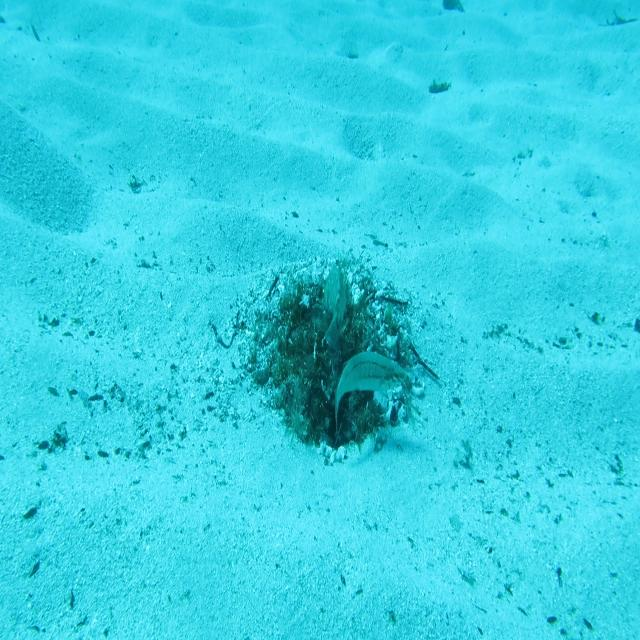NIP_CORE: (314, 260, 352, 352)
core_nest: (306, 296, 354, 354)
female: (332, 349, 410, 441)
nest: (226, 250, 431, 484)
vegetation: (428, 78, 453, 99)
